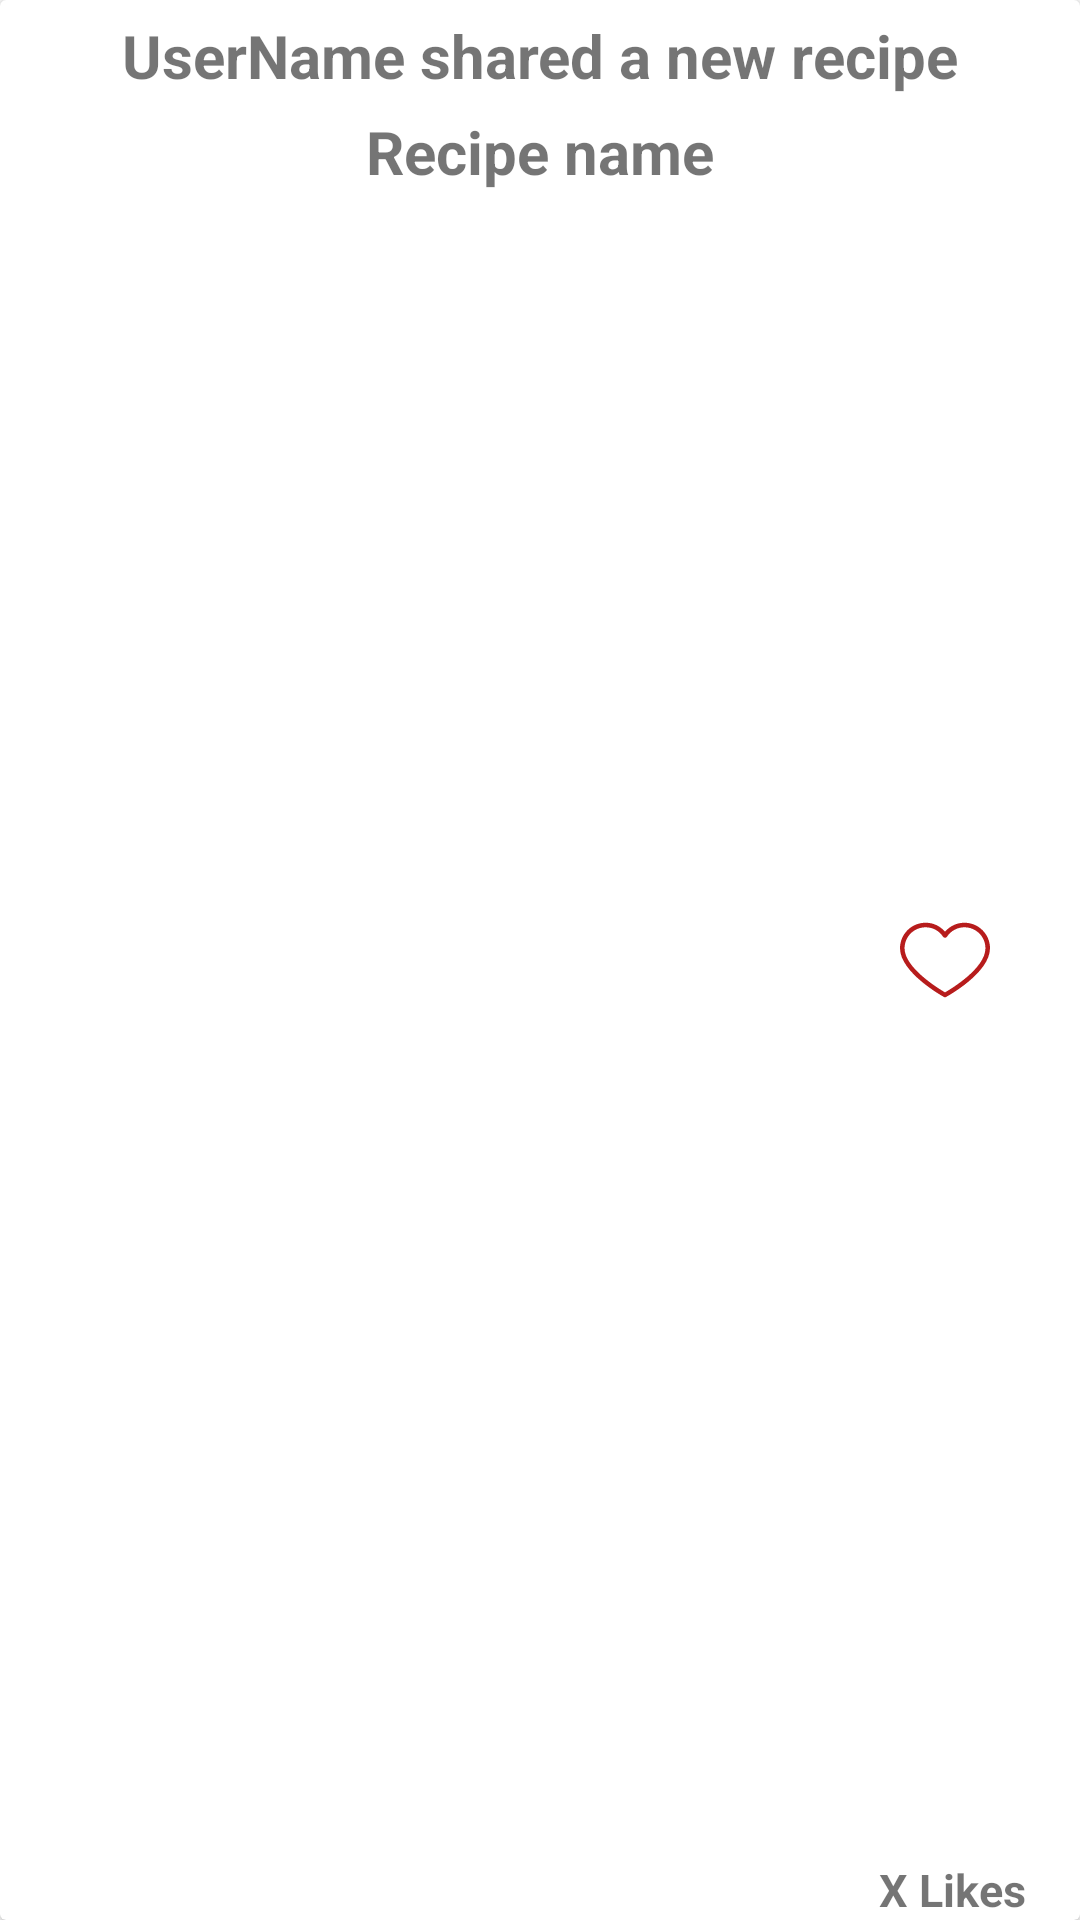

Where to tap for icons on this 1080 × 1920 app screen, as point (x, y):
empty heart: point (945, 960)
